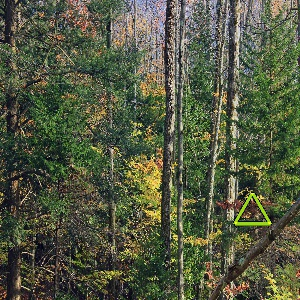triangle: (231, 191, 273, 230)
